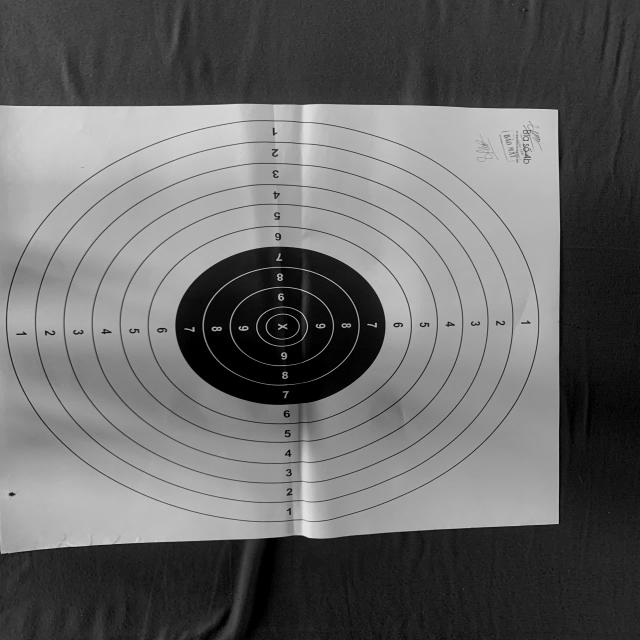bullet: (8, 492, 16, 496)
target: (0, 103, 560, 552)
